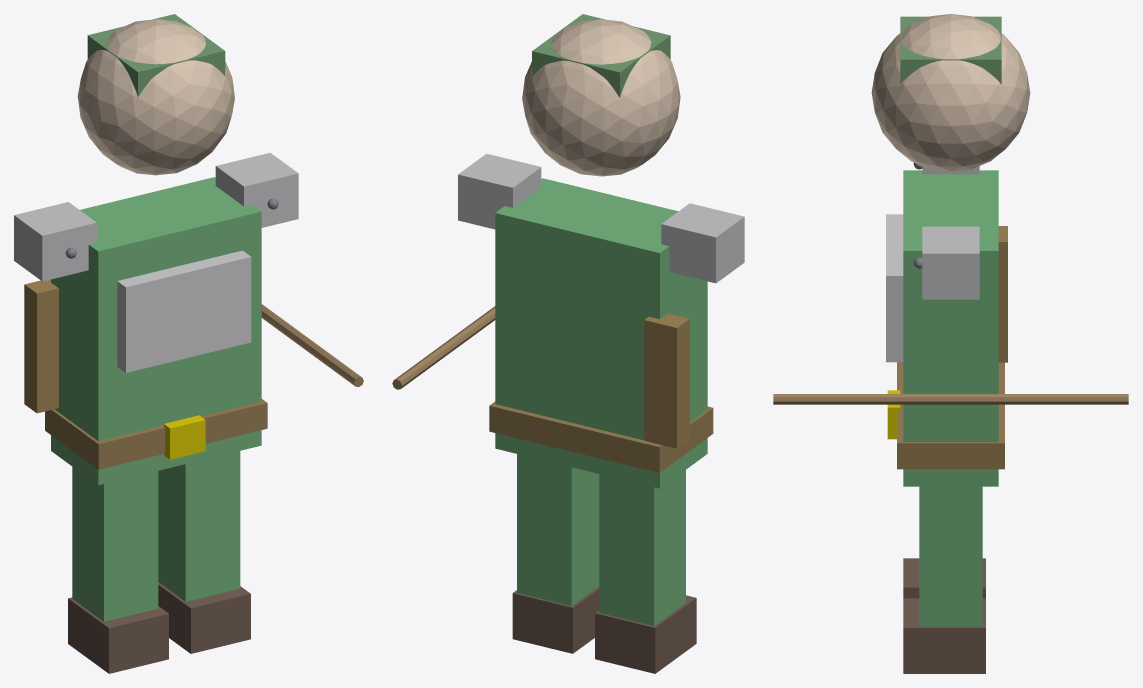
File: archer_m.glb
3 renders of one model, left to right at view 1: azimuth 30°, elevation 25°; view 2: azimuth 150°, elevation 25°; view 3: azimuth 270°, elevation 25°, orthographic.
Parts seen in each view (by area): view 1: geometry_0; view 2: geometry_0; view 3: geometry_0.
Part boxes in pixels (bbox=[...]): geometry_0: bbox=[14, 14, 363, 673]; geometry_0: bbox=[392, 14, 744, 673]; geometry_0: bbox=[773, 14, 1128, 673].
Size of the model in its own units: 0.94 by 2.15 by 1.12.
